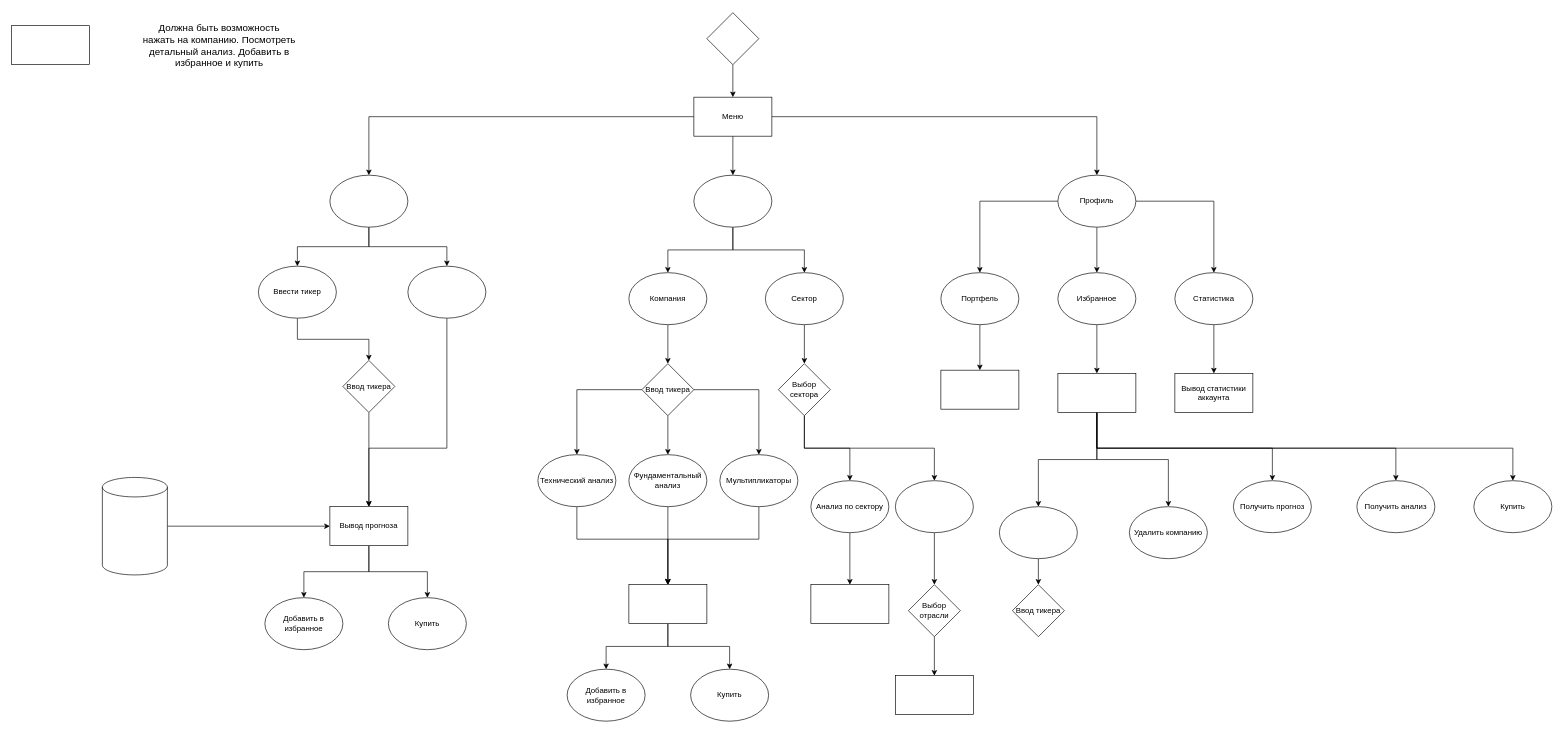
This 1563x733 diagram has some shape labels left out. The box of each missing label's shape, as (x1, y1, x2, y2) in pixels:
/start: (706, 12, 759, 65)
ML модель для прогноза: (102, 477, 167, 575)
Анализ: (693, 175, 772, 227)
Выбрать из избранного: (407, 266, 486, 318)
Выбрать отрасль: (895, 480, 973, 533)
Вывод анализа: (628, 584, 707, 624)
Вывод анализа по отрасли: (895, 675, 973, 715)
Вывод анализа по сектору: (810, 584, 889, 624)
Вывод портфеля: (940, 370, 1019, 409)
Вывод списка компаний из избранного: (1057, 373, 1136, 412)
Добавить компанию: (999, 506, 1077, 559)
Еженедельная рассылка с рекомендациями к покупке: (11, 25, 89, 65)
Прогноз: (329, 175, 408, 227)
